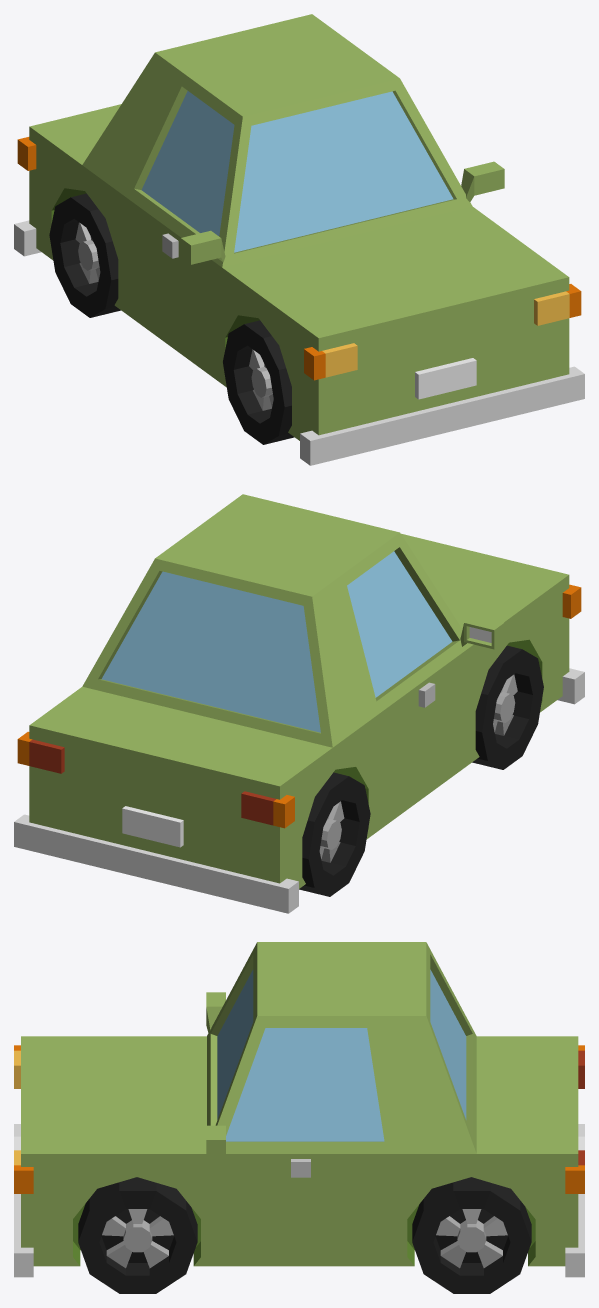
The model's file is taxi2.glb.
3 views of the same model, one above another, from view 1: azimuth 30°, elevation 25°; view 2: azimuth 150°, elevation 25°; view 3: azimuth 270°, elevation 25° (orthographic). The views are drawn at different scales.
Parts seen in each view (by area): view 1: Vehicle.008_Material_0; view 2: Vehicle.008_Material_0; view 3: Vehicle.008_Material_0.
Boxes of the visible parts, x1,y1,x2,y2 form: Vehicle.008_Material_0: (14, 14, 584, 465); Vehicle.008_Material_0: (14, 494, 584, 913); Vehicle.008_Material_0: (14, 942, 584, 1293).
Bounding box in the file's own units: 2.5 × 2.01 × 4.1.
Materials: 1 (1 with a texture image).
